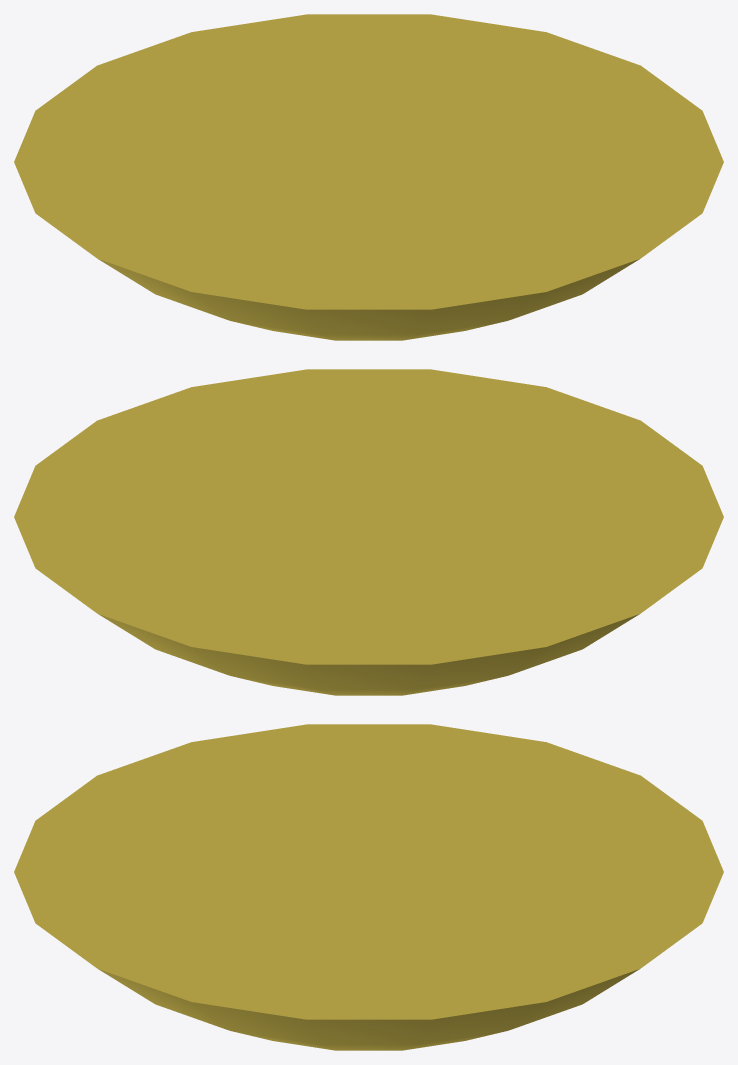
The model's file is MijoCrudoBowl.fbx.
3 renders of one model, top to bottom at view 1: azimuth 30°, elevation 25°; view 2: azimuth 150°, elevation 25°; view 3: azimuth 270°, elevation 25°, orthographic.
Visible parts, largest first — view 1: MijoBowlCrudo; view 2: MijoBowlCrudo; view 3: MijoBowlCrudo.
Part boxes in pixels (x1,y1,x2,y2): MijoBowlCrudo: [14, 14, 723, 340]; MijoBowlCrudo: [14, 369, 723, 695]; MijoBowlCrudo: [14, 724, 723, 1050].
Size of the model in its own units: 26.3 by 5.53 by 26.7.
